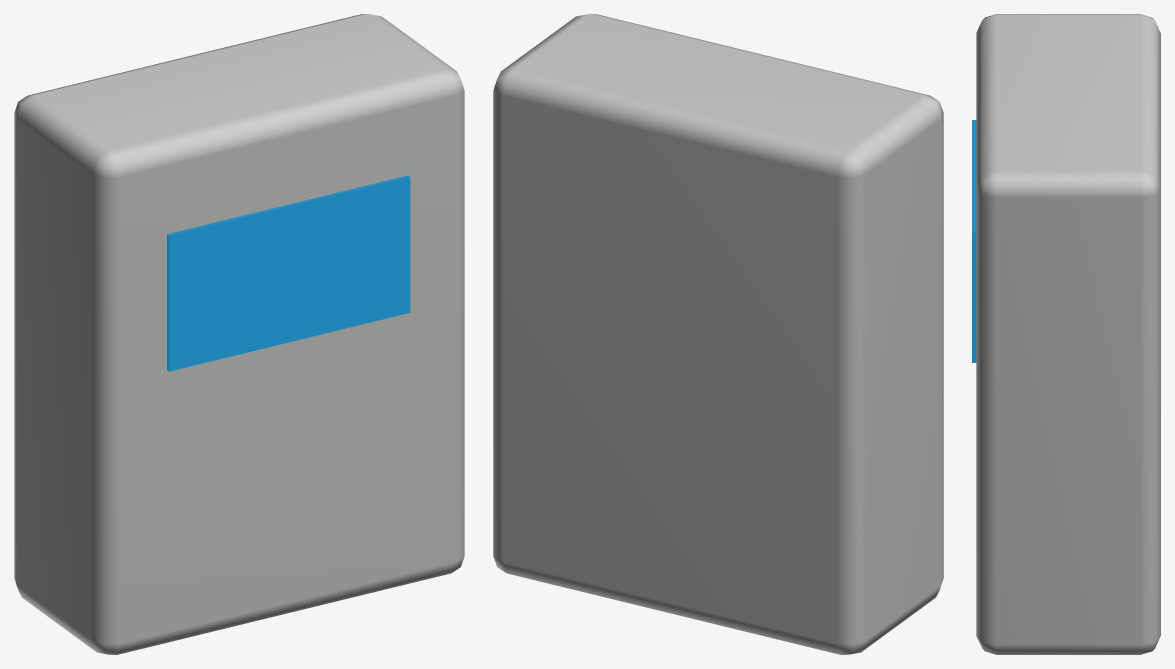
The model's file is dev_btu.glb.
3 renders of one model, left to right at view 1: azimuth 30°, elevation 25°; view 2: azimuth 150°, elevation 25°; view 3: azimuth 270°, elevation 25°, orthographic. The views are drawn at different scales.
Parts seen in each view (by area): view 1: Cube, Cube.001; view 2: Cube; view 3: Cube, Cube.001.
Boxes of the visible parts, x1,y1,x2,y2 form: Cube: (14,14,464,654); Cube.001: (167,175,410,371); Cube: (493,14,943,654); Cube: (976,14,1160,654); Cube.001: (972,120,976,362).
Size of the model in its own units: 0.2 by 0.275 by 0.092.
